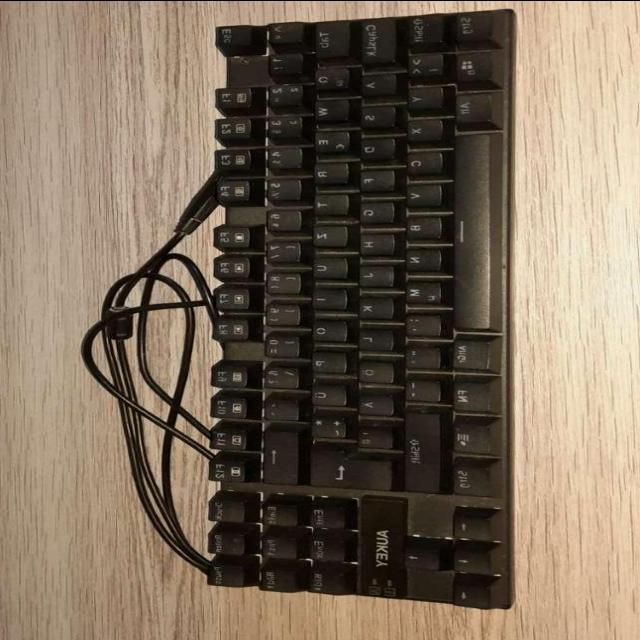0: (263, 333, 301, 357)
1: (267, 52, 305, 76)
2: (266, 81, 304, 105)
3: (264, 112, 304, 138)
4: (266, 146, 302, 170)
5: (265, 176, 301, 200)
6: (263, 207, 301, 230)
7: (263, 238, 301, 261)
8: (263, 269, 301, 293)
9: (265, 302, 303, 326)
a: (360, 72, 398, 98)
accent: (261, 392, 303, 420)
ae: (357, 394, 393, 414)
alt-left: (454, 89, 498, 125)
altgr-right: (450, 331, 496, 372)
b: (403, 215, 443, 238)
c: (406, 149, 444, 173)
caret: (266, 20, 304, 44)
comma: (404, 314, 442, 334)
d: (359, 136, 395, 159)
del: (260, 424, 300, 484)
e: (313, 128, 351, 152)
enter: (306, 440, 395, 490)
f: (358, 168, 394, 190)
g: (358, 200, 394, 222)
h: (357, 231, 393, 254)
hash: (356, 421, 396, 448)
i: (309, 286, 345, 308)
j: (356, 263, 392, 285)
k: (356, 294, 394, 318)
keyboard: (199, 3, 522, 615)
l: (356, 327, 394, 349)
less: (407, 51, 445, 75)
m: (402, 278, 446, 304)
minus: (405, 379, 441, 401)
n: (402, 246, 442, 269)
o: (310, 318, 346, 341)
oe: (356, 360, 394, 382)
p: (310, 350, 346, 372)
plus: (309, 411, 349, 438)
point: (404, 345, 440, 369)
q: (312, 64, 350, 88)
r: (313, 160, 349, 183)
s: (358, 104, 394, 126)
shift-left: (408, 13, 446, 46)
shift-lock: (361, 16, 399, 64)
shift-right: (401, 406, 441, 492)
space: (452, 128, 496, 332)
ss: (262, 364, 300, 388)
strg-left: (455, 7, 501, 43)
strg-right: (452, 456, 498, 496)
t: (313, 192, 347, 214)
tab: (314, 18, 352, 60)
u: (310, 255, 346, 277)
ue: (309, 381, 347, 405)
v: (404, 183, 442, 205)
w: (313, 97, 351, 120)
x: (406, 116, 442, 139)
y: (406, 84, 444, 107)
z: (310, 223, 346, 245)
